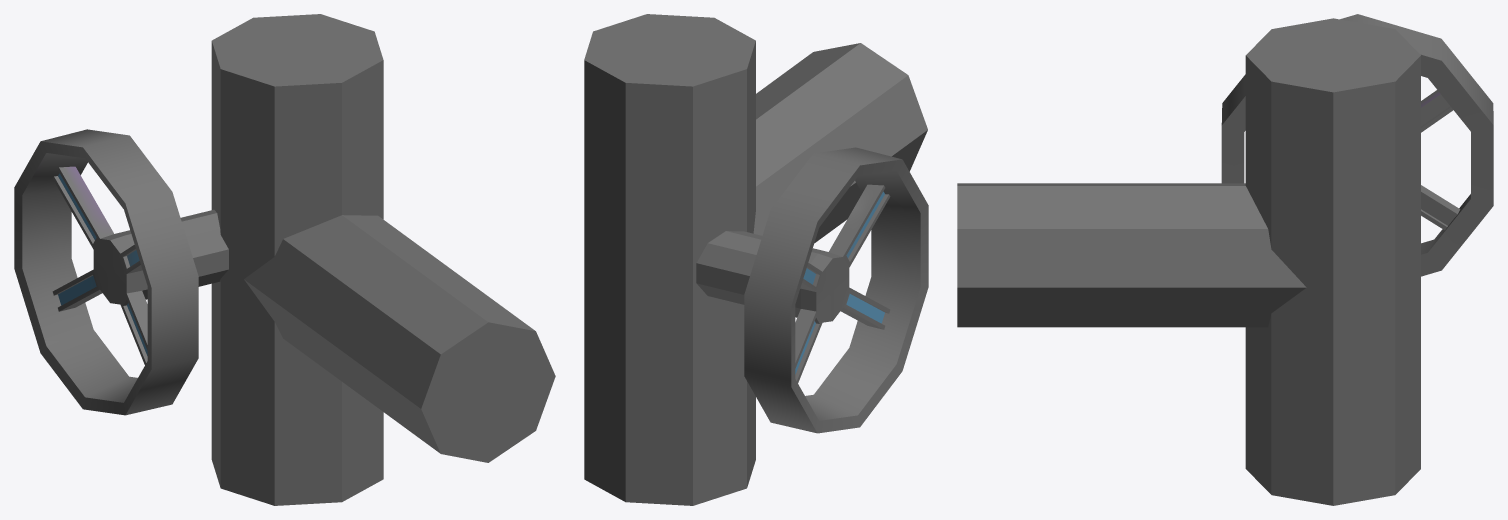
The picture shows the model from 3 angles, left to right: view 1: azimuth 30°, elevation 25°; view 2: azimuth 150°, elevation 25°; view 3: azimuth 270°, elevation 25°; orthographic projection.
Visible parts, largest first — view 1: SM_B_Part5; view 2: SM_B_Part5; view 3: SM_B_Part5.
Part boxes in pixels (left/top/right/bottom): SM_B_Part5: left=14, top=14, right=555, bottom=505; SM_B_Part5: left=584, top=14, right=928, bottom=505; SM_B_Part5: left=957, top=14, right=1493, bottom=505.
Bounding box in the file's own units: 107 × 181 × 154.
1 material, 1 textured.
